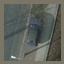car: (26, 17, 42, 49)
